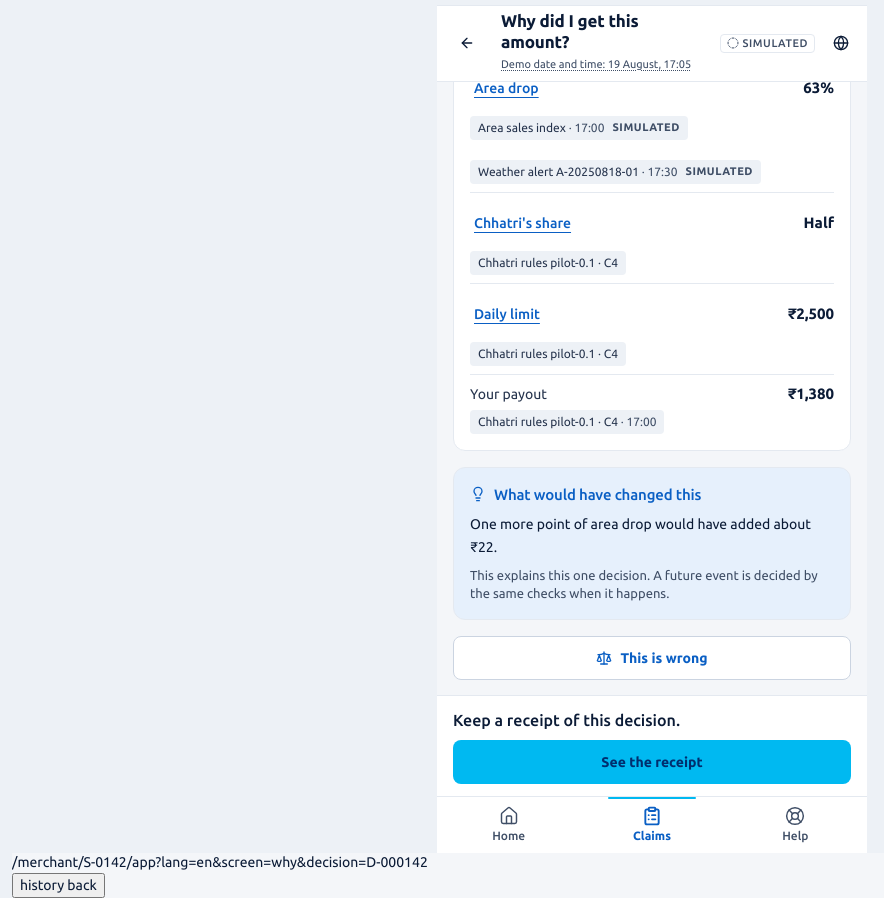
Test: what this screen leads to › takes "This is wrong" to the claim and puts the focus on its dispute button
(page scrolled)
Click the button with test id "why-dispute": (652, 658) [453, 636, 851, 680]
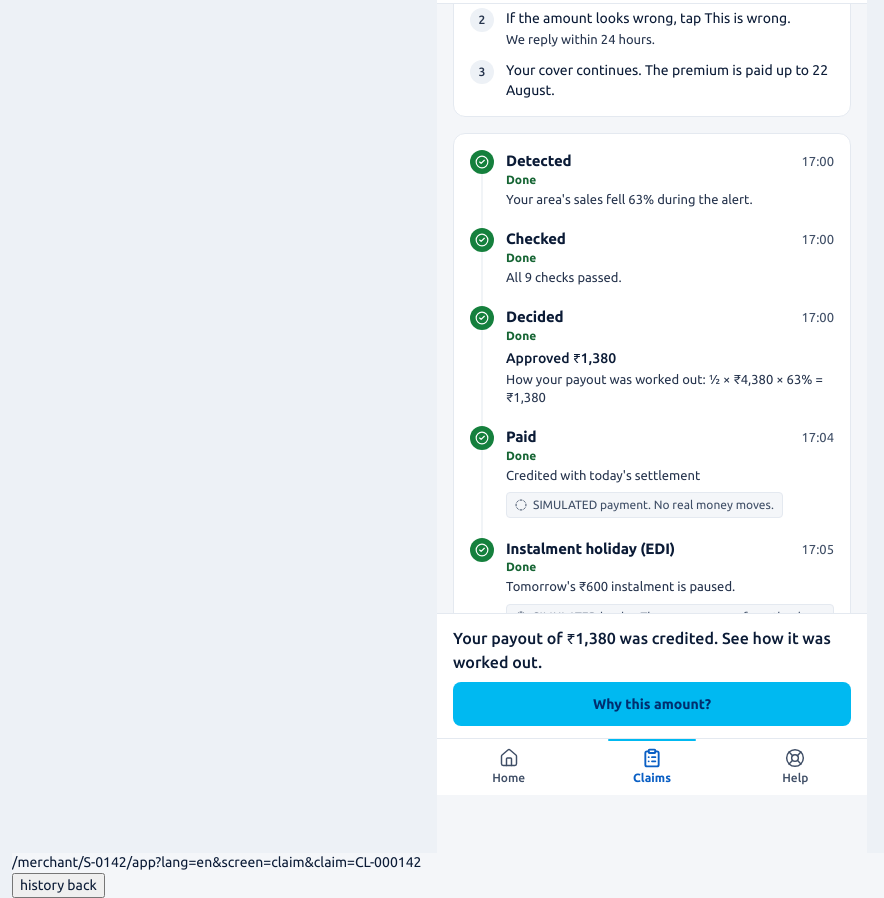
Expected: the text with test id "probe-location" reads "/merchant/S-0142/app?lang=en&screen=claim&claim=CL-000142", [12, 854, 422, 870]
